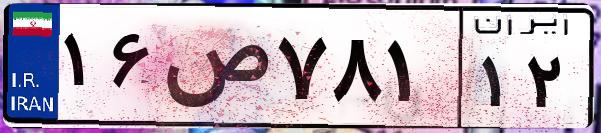1: (385, 28, 445, 110), (57, 26, 110, 100), (475, 38, 525, 113)
2: (525, 38, 570, 115)
6: (110, 28, 158, 98)
7: (270, 28, 330, 110)
8: (330, 28, 385, 110)
ص: (158, 20, 270, 120)
